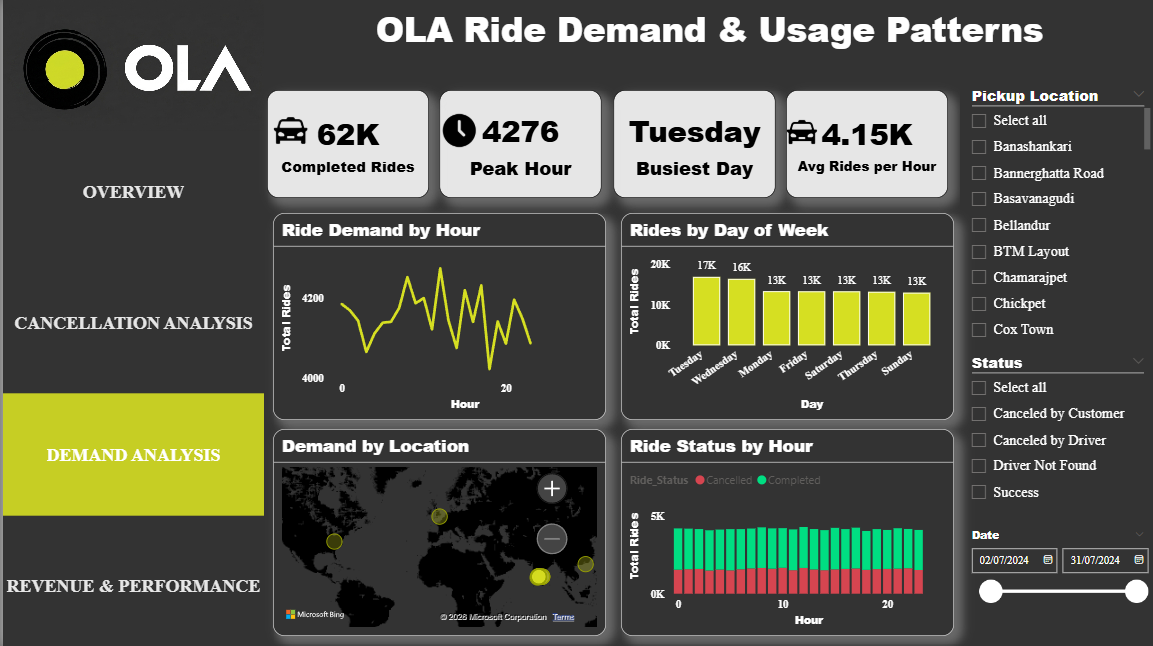

The dashboard page shown, as its layout file describes it:
{"tool":"powerbi","page":{"name":"DEMAND ANALYSIS","canvas":[1280,720],"ordinal":2},"visuals":[{"type":"shape","box":[0,0,289.4,719.1],"z":0},{"type":"image","box":[0,0,290,146],"z":1000},{"type":"pageNavigator","box":[0,145,290,575],"z":2000},{"type":"card","fields":{"Values":["all measures.Busiest Day"]},"box":[678,100,180,120],"z":3000},{"type":"card","fields":{"Values":["all measures.Avg Rides per Hour"]},"box":[870,100,180,120],"z":4000},{"type":"card","fields":{"Values":["all measures.Peak Hour"]},"box":[485,100,180,120],"z":5000},{"type":"card","fields":{"Values":["all measures.Completed Rides"]},"box":[294,100,180,120],"z":6000},{"type":"textbox","box":[290,0,990,90],"z":7000},{"type":"slicer","fields":{"Values":["Bookings.Date"]},"box":[1062.9,580,217.1,120],"z":8000},{"type":"slicer","fields":{"Values":["Bookings.Status"]},"box":[1062.9,387.1,217.1,180],"z":9000},{"type":"slicer","fields":{"Values":["Bookings.Pickup Location"]},"box":[1062.5,90,217.5,297.5],"z":10000},{"type":"clusteredColumnChart","title":"Rides by Day of Week","fields":{"Y":["all measures.Total Rides"],"Category":["Bookings.Day"]},"box":[686,236,370,230],"z":11000},{"type":"columnChart","title":"Ride Status by Hour","fields":{"Y":["all measures.Total Rides"],"Category":["Bookings.Hour"],"Series":["Bookings.Ride_Status"]},"box":[686,476,370,230],"z":12000},{"type":"lineChart","title":"Ride Demand by Hour","fields":{"Y":["all measures.Total Rides"],"Category":["Bookings.Hour"]},"box":[300,236,370,230],"z":13000},{"type":"map","title":"Demand by Location","fields":{"Size":["all measures.Total Rides"],"Category":["Bookings.Pickup Location"]},"box":[300,476,370,230],"z":14000},{"type":"image","box":[294,124.6,52.7,39.9],"z":14002},{"type":"image","box":[485.6,124.4,43.3,40],"z":14003},{"type":"image","box":[870,126.7,35.6,40],"z":14004}]}

Visuals, with their boxes in screenshot pixels (x1, y1, x2, y2), scaled from the page's 1280x720 canvas onto the 1153x646 screenshot:
shape: [0,0,261,645]
image: [0,0,261,131]
pageNavigator: [0,130,261,645]
card - all measures.Busiest Day: [611,90,773,197]
card - all measures.Avg Rides per Hour: [784,90,946,197]
card - all measures.Peak Hour: [437,90,599,197]
card - all measures.Completed Rides: [265,90,427,197]
textbox: [261,0,1152,81]
slicer - Bookings.Date: [957,520,1152,628]
slicer - Bookings.Status: [957,347,1152,509]
slicer - Bookings.Pickup Location: [957,81,1152,348]
"Rides by Day of Week" clusteredColumnChart: [618,212,951,418]
"Ride Status by Hour" columnChart: [618,427,951,633]
"Ride Demand by Hour" lineChart: [270,212,604,418]
"Demand by Location" map: [270,427,604,633]
image: [265,112,312,148]
image: [437,112,476,148]
image: [784,114,816,150]
